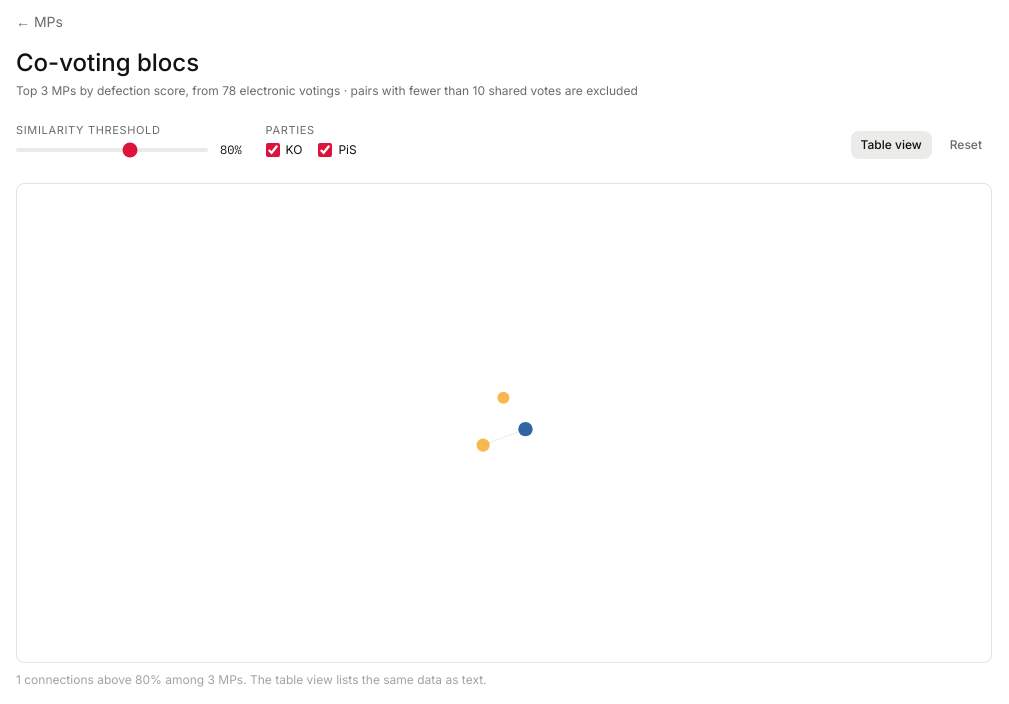
Scenario: BlocsPage (§3.3) › unchecking a party removes its MPs from the graph description
Expected: the slider labelled "Similarity threshold" is shown, [16,148,208,152]
Click the checkbox labelled "KO".
click(273, 150)  # box [266,143,280,157]
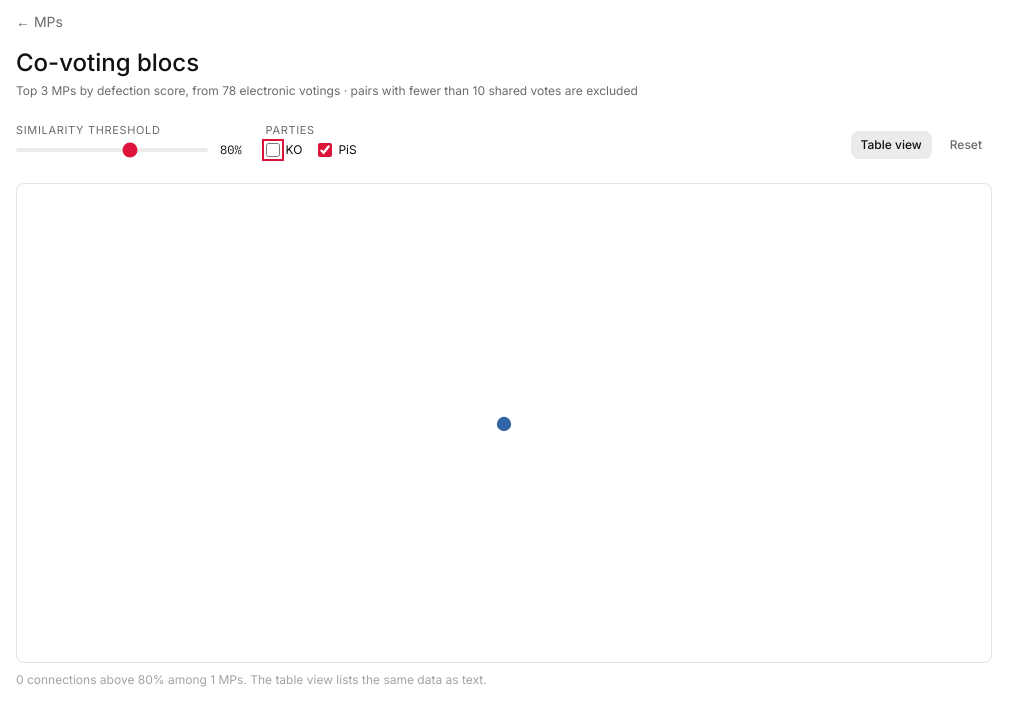
Result: the picture named "Force graph of 1 MPs connected by voting similarity. 0 connections above 80% threshold." is shown
